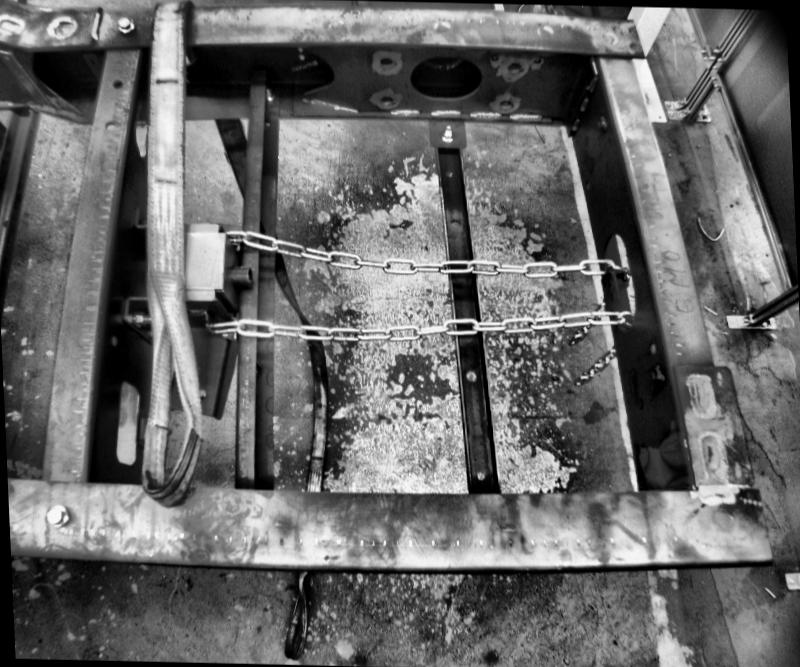bolt: (114, 15, 136, 37), (47, 502, 69, 524), (133, 312, 157, 328), (255, 84, 274, 99), (440, 122, 452, 143)
bracket: (596, 263, 620, 310)
hole: (405, 51, 483, 98), (112, 375, 142, 470), (375, 53, 395, 68), (380, 94, 396, 107), (504, 60, 520, 72), (497, 98, 512, 109), (464, 370, 476, 383), (108, 334, 118, 347), (474, 471, 485, 482), (448, 216, 458, 228), (103, 120, 114, 130), (111, 77, 121, 87), (445, 167, 453, 175)
